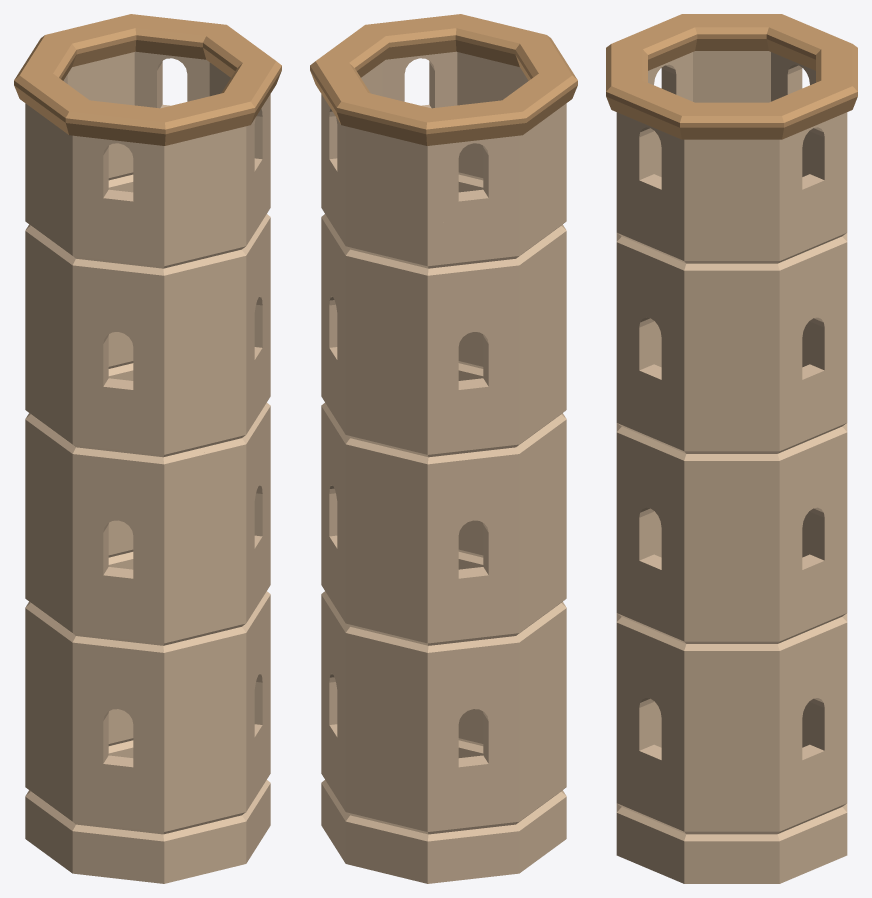
Rendered from DesertTower.fbx.
3 views of the same model, side by side, from view 1: azimuth 30°, elevation 25°; view 2: azimuth 150°, elevation 25°; view 3: azimuth 270°, elevation 25° (orthographic).
Parts seen in each view (by area): view 1: mergedBlocks; view 2: mergedBlocks; view 3: mergedBlocks.
Part boxes in pixels (x1=…): mergedBlocks: x1=14, y1=14, x2=281, y2=883; mergedBlocks: x1=310, y1=14, x2=577, y2=883; mergedBlocks: x1=606, y1=14, x2=857, y2=883.
Bounding box in the file's own units: 24 × 81 × 24.
